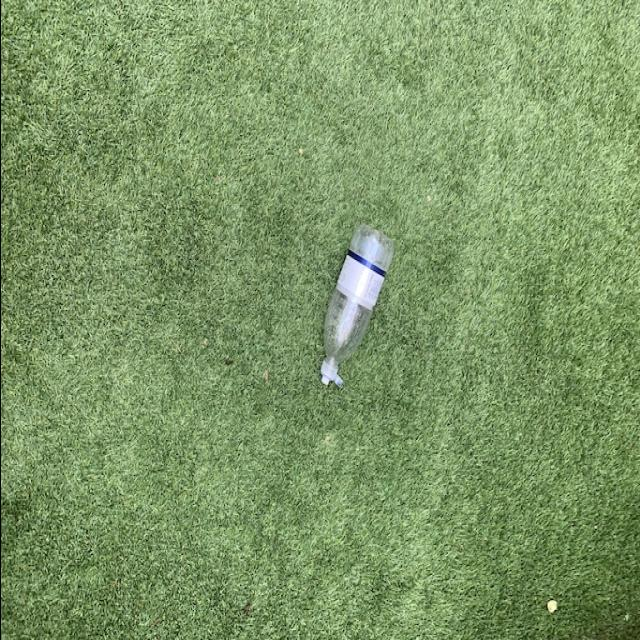PET: (312, 218, 394, 390)
